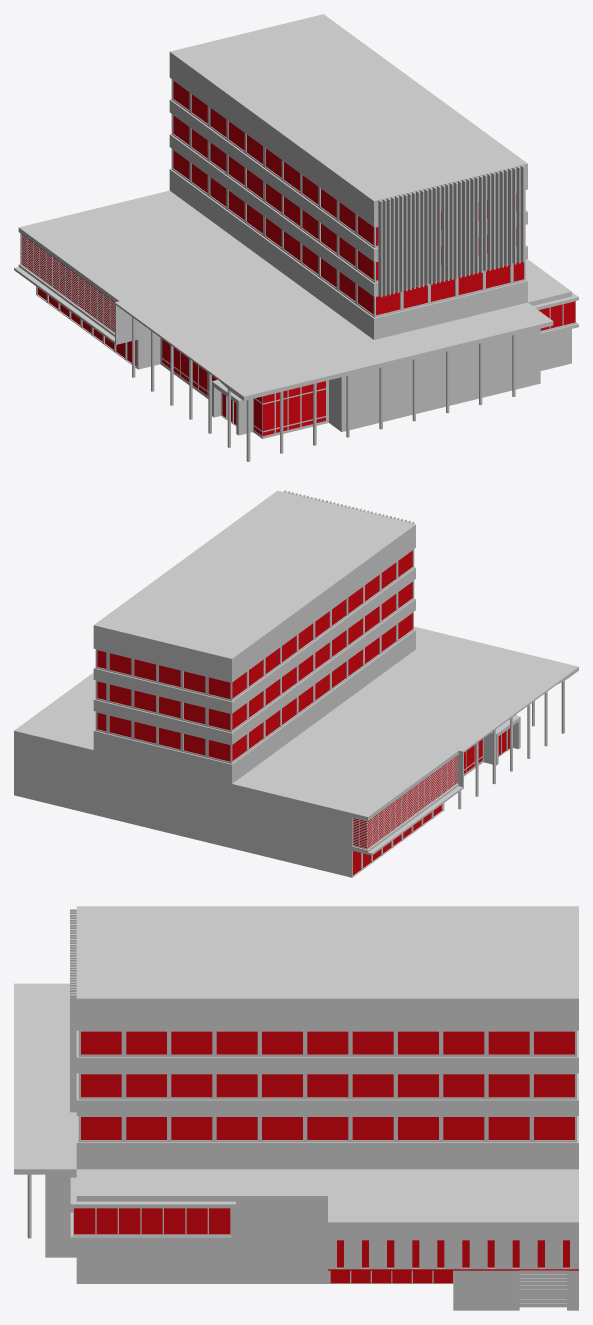
Rendered from SM_infrastructure_buildings_013.glb.
3 views of the same model, one above another, from view 1: azimuth 30°, elevation 25°; view 2: azimuth 150°, elevation 25°; view 3: azimuth 270°, elevation 25° (orthographic). The views are drawn at different scales.
Parts seen in each view (by area): view 1: infrastructure_buildings_013; view 2: infrastructure_buildings_013; view 3: infrastructure_buildings_013.
Boxes of the visible parts, x1,y1,x2,y2 form: infrastructure_buildings_013: (14,14,578,461); infrastructure_buildings_013: (14,490,578,877); infrastructure_buildings_013: (14,906,578,1310).
Size of the model in its own units: 36 by 18.2 by 36.
